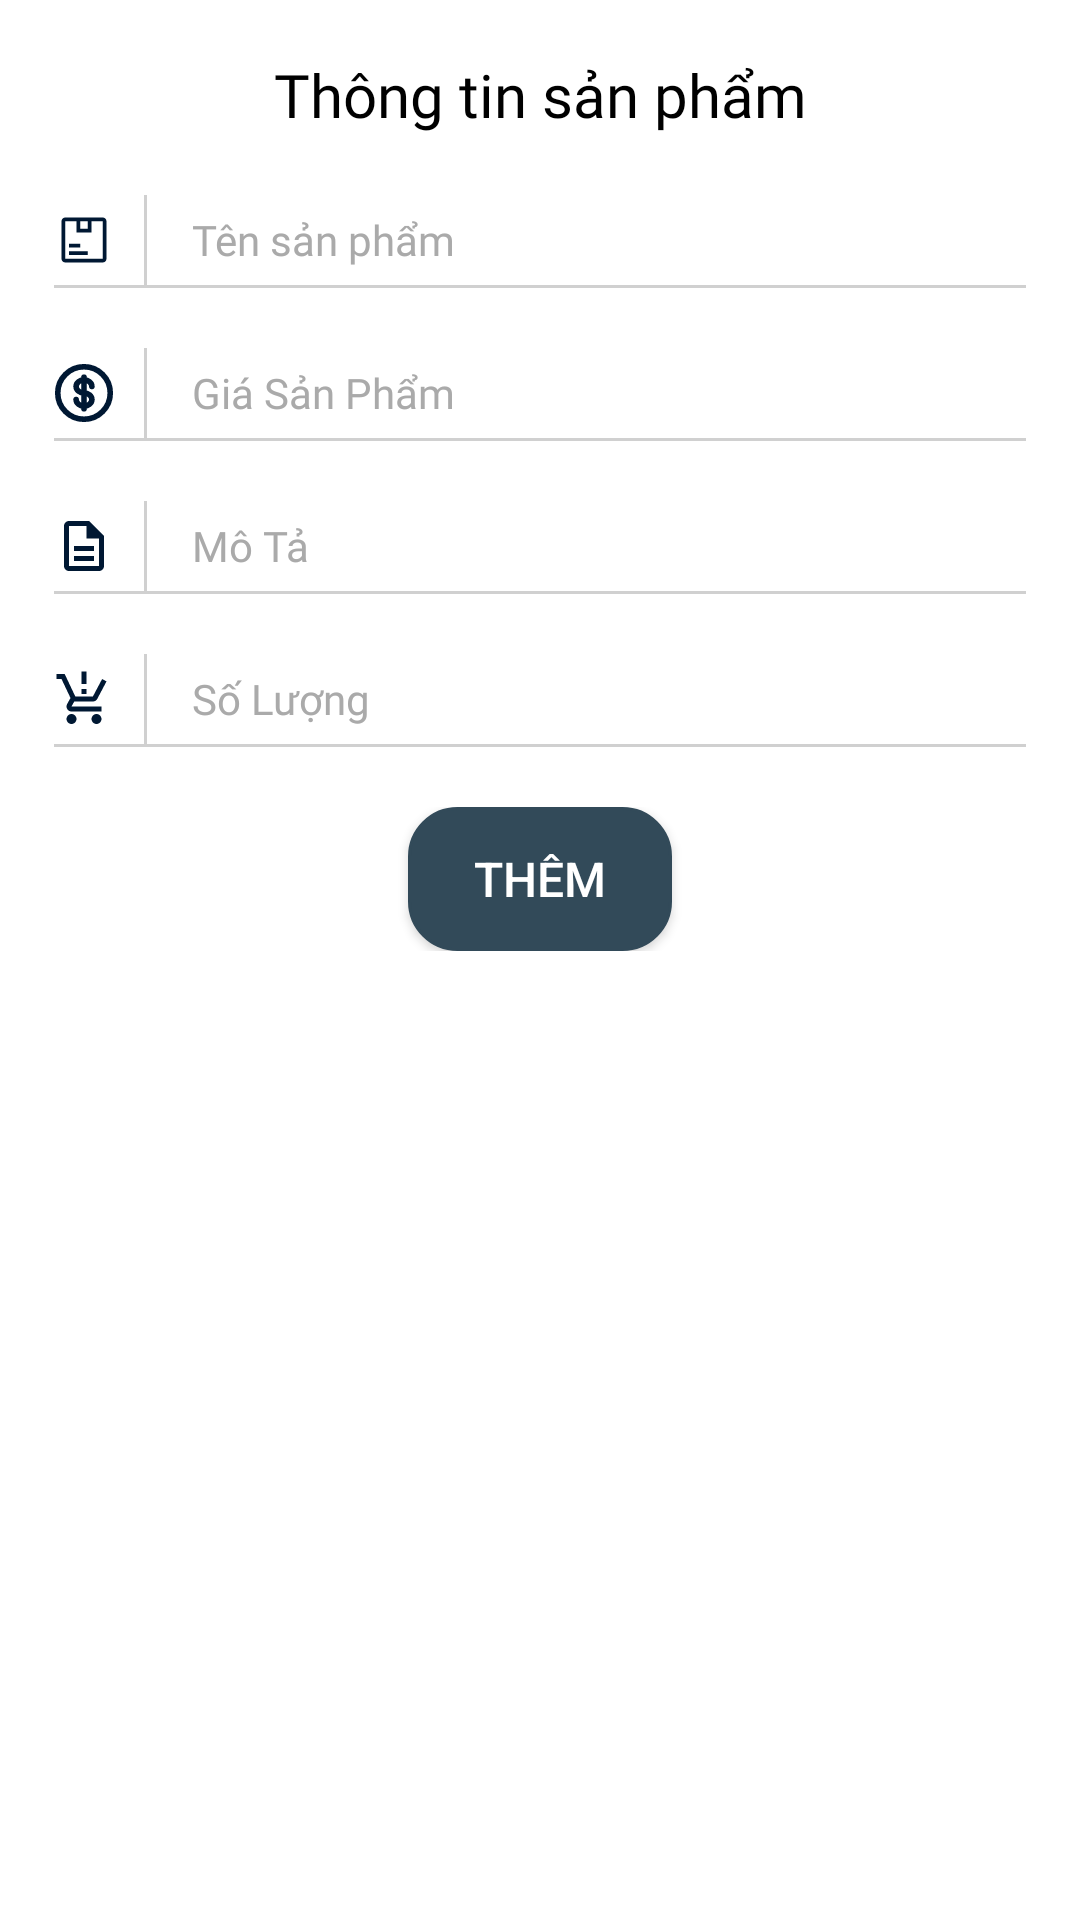

Screen size 1080 × 1920. Icon name, then its box in pixels as BBox(x1, y1, x2, y2):
product description: BBox(64, 521, 104, 571)
product name: BBox(61, 217, 107, 263)
product price: BBox(55, 364, 113, 422)
